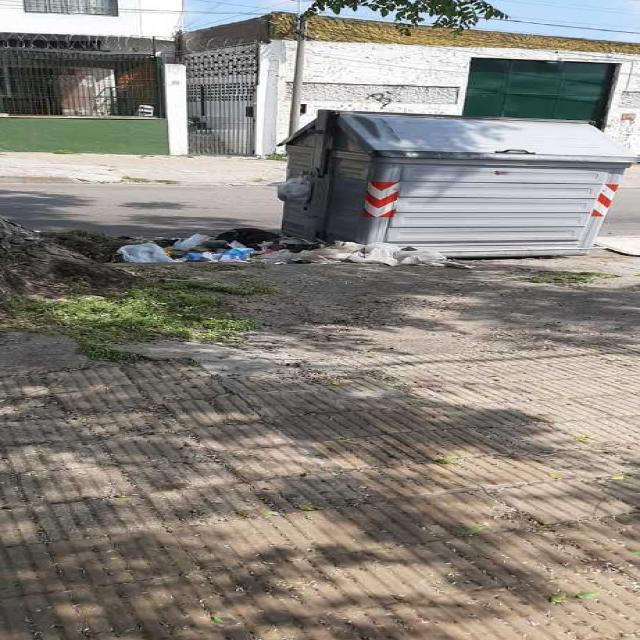garbage: (100, 220, 473, 276)
